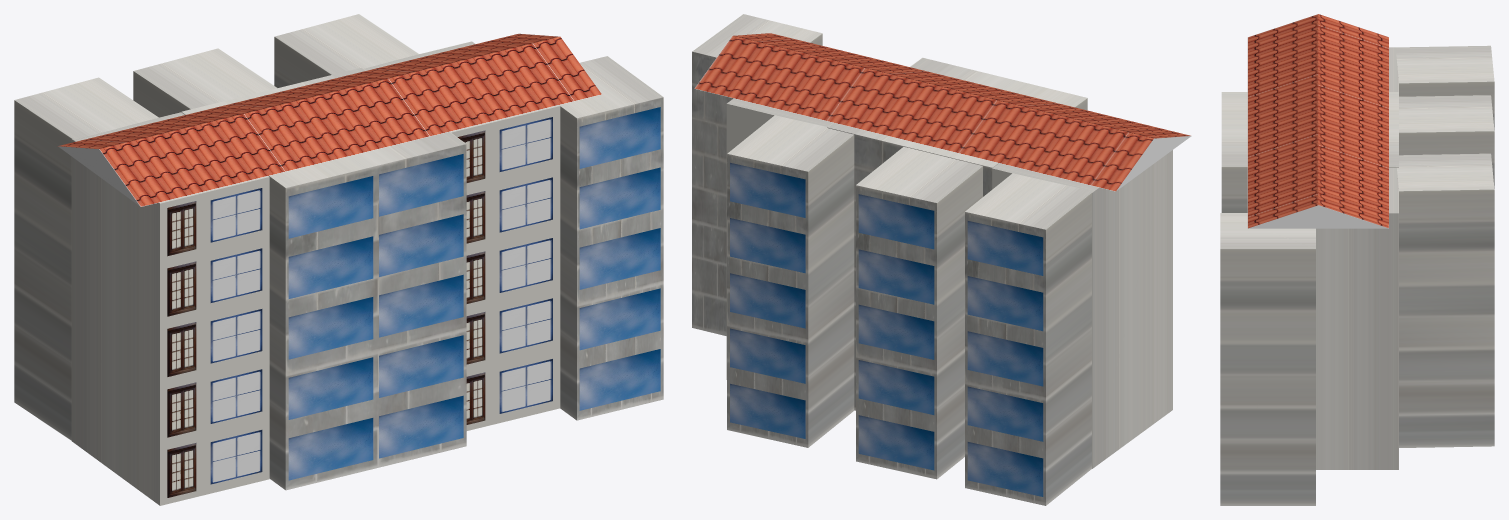
File: wenyuan4.fbx
3 renders of one model, left to right at view 1: azimuth 30°, elevation 25°; view 2: azimuth 150°, elevation 25°; view 3: azimuth 270°, elevation 25°, orthographic. The views are drawn at different scales.
Visible parts, largest first — view 1: CityEngineShapeMaterial_4_m, CityEngineShapeMaterial_5_m, CityEngineShapeMaterial_1_m, CityEngineShapeMaterial_3_m, CityEngineShapeMaterial_2_m, CityEngineShapeMaterial_m; view 2: CityEngineShapeMaterial_4_m, CityEngineShapeMaterial_5_m, CityEngineShapeMaterial_1_m, CityEngineShapeMaterial_m; view 3: CityEngineShapeMaterial_4_m, CityEngineShapeMaterial_1_m, CityEngineShapeMaterial_m.
Part boxes in pixels (x1,y1,x2,y2): CityEngineShapeMaterial_4_m: [14, 14, 663, 505]; CityEngineShapeMaterial_5_m: [288, 107, 660, 480]; CityEngineShapeMaterial_1_m: [58, 33, 601, 206]; CityEngineShapeMaterial_3_m: [210, 117, 552, 484]; CityEngineShapeMaterial_2_m: [167, 130, 485, 497]; CityEngineShapeMaterial_m: [58, 146, 140, 206]; CityEngineShapeMaterial_4_m: [692, 14, 1172, 505]; CityEngineShapeMaterial_5_m: [730, 162, 1043, 496]; CityEngineShapeMaterial_1_m: [694, 33, 1190, 191]; CityEngineShapeMaterial_m: [1116, 136, 1191, 190]; CityEngineShapeMaterial_4_m: [1220, 45, 1494, 505]; CityEngineShapeMaterial_1_m: [1247, 14, 1388, 228]; CityEngineShapeMaterial_m: [1248, 205, 1388, 228].
Bounding box in the file's own units: 35.09 × 21.94 × 19.34.
